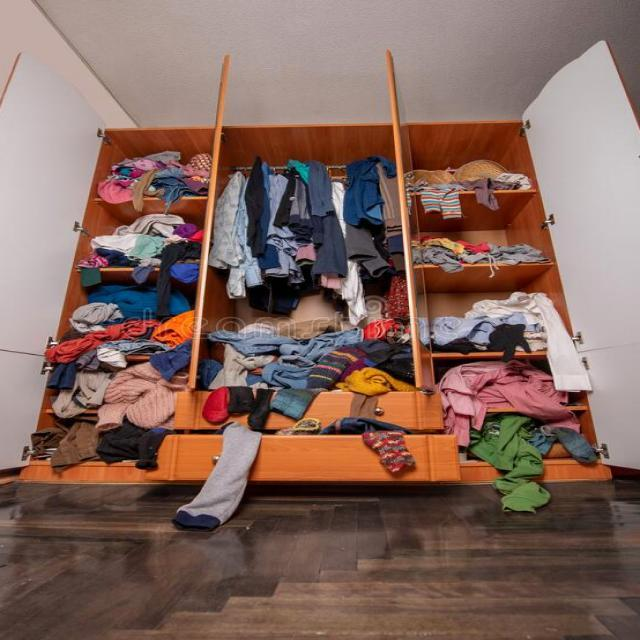clothes: (228, 172, 392, 442)
